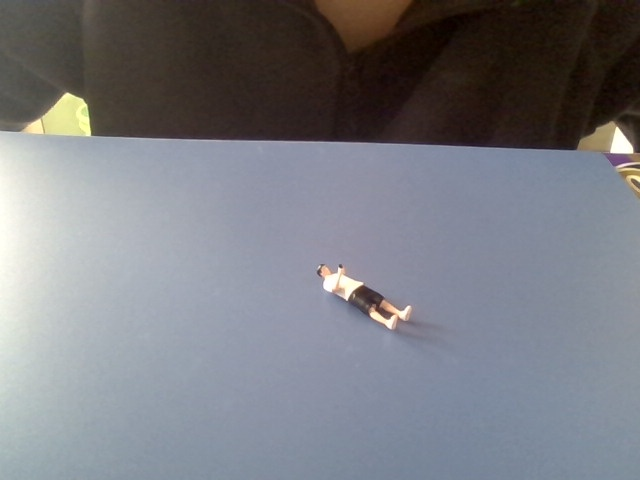fall: (307, 257, 414, 336)
